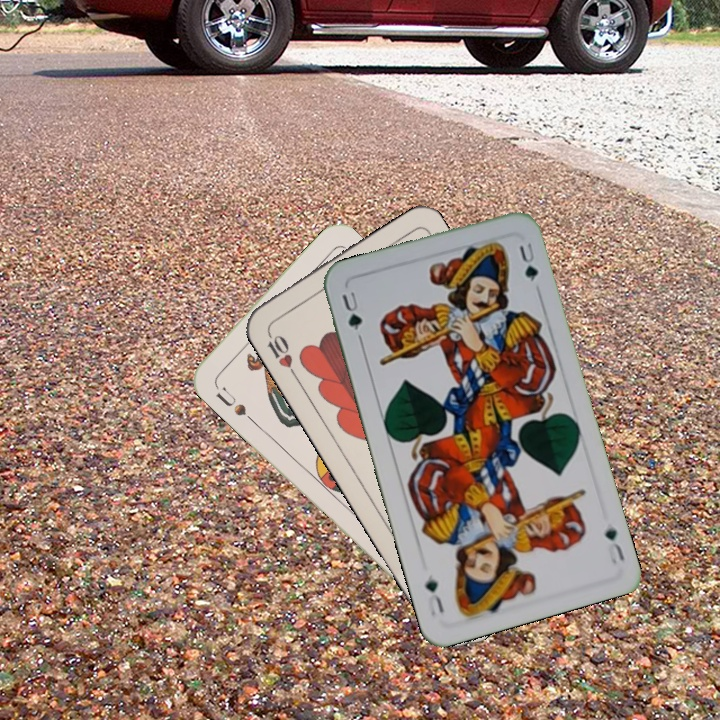GU: (337, 286, 365, 333), (601, 522, 627, 567)
H10: (262, 325, 299, 379)
SU: (211, 382, 249, 419)
